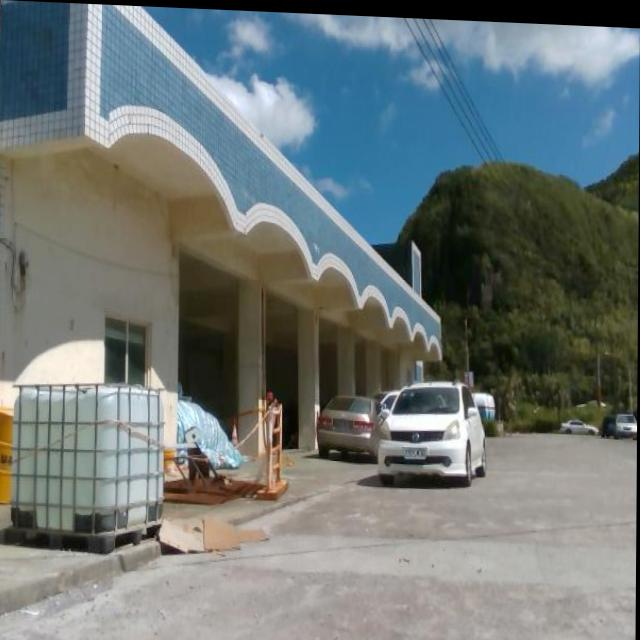pollute: (4, 381, 165, 556), (164, 379, 265, 505), (153, 511, 274, 553), (0, 401, 14, 507)
